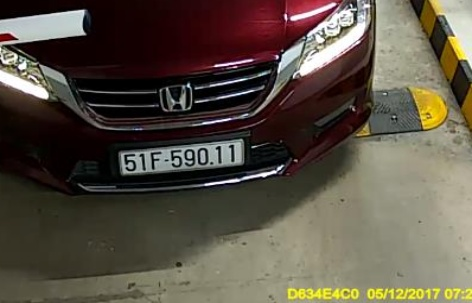plate: (112, 137, 250, 183)
